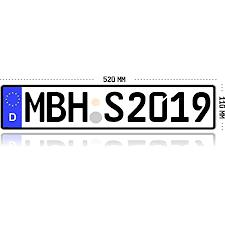0: (149, 91, 168, 122)
1: (169, 92, 191, 124)
2: (127, 91, 148, 123)
9: (191, 92, 210, 123)
B: (45, 90, 67, 124)
H: (69, 91, 90, 125)
M: (25, 91, 47, 125)
S: (103, 90, 125, 124)
